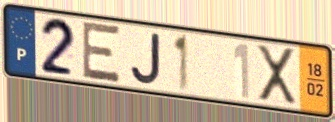1: (171, 32, 193, 96), (232, 42, 251, 100)
2: (37, 14, 79, 80)
E: (81, 19, 123, 85)
J: (129, 30, 163, 87)
X: (254, 42, 299, 107)
